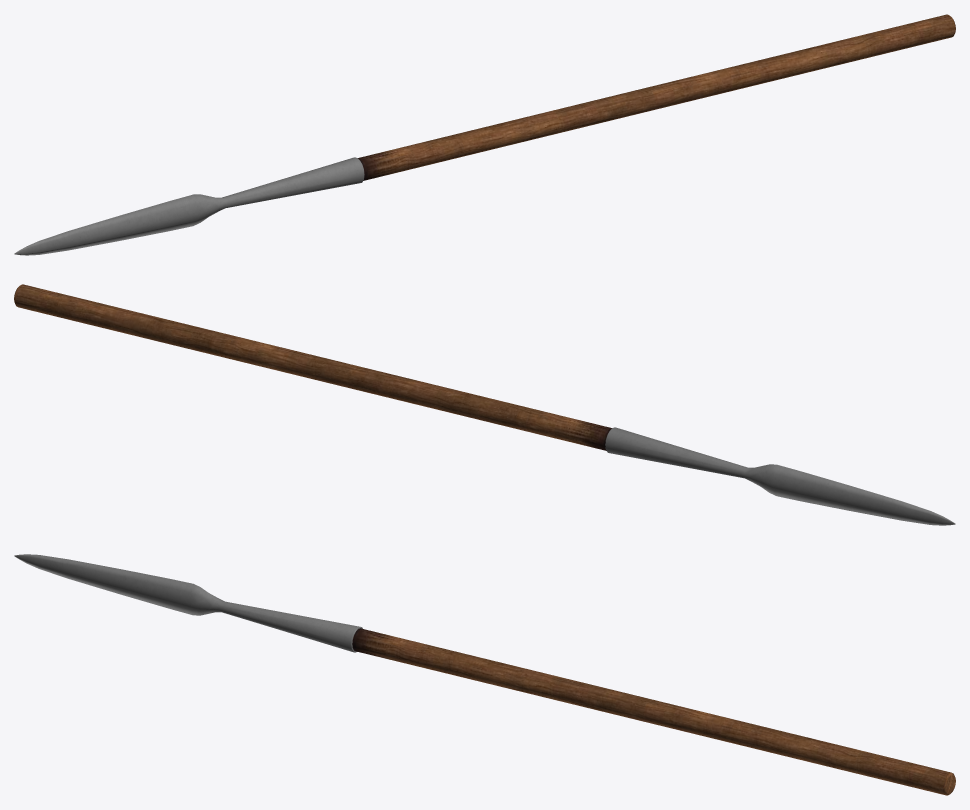
Rendered from w_short_spear.glb.
3 views of the same model, one above another, from view 1: azimuth 30°, elevation 25°; view 2: azimuth 150°, elevation 25°; view 3: azimuth 330°, elevation 25° (orthographic).
Parts seen in each view (by area): view 1: spear01_spear01_0; view 2: spear01_spear01_0; view 3: spear01_spear01_0.
Boxes of the visible parts, x1,y1,x2,y2 form: spear01_spear01_0: (14,14,955,255); spear01_spear01_0: (14,284,955,525); spear01_spear01_0: (14,554,955,795).
Bounding box in the file's own units: 59.71 × 1.93 × 1.48.
Materials: 1 (1 with a texture image).
